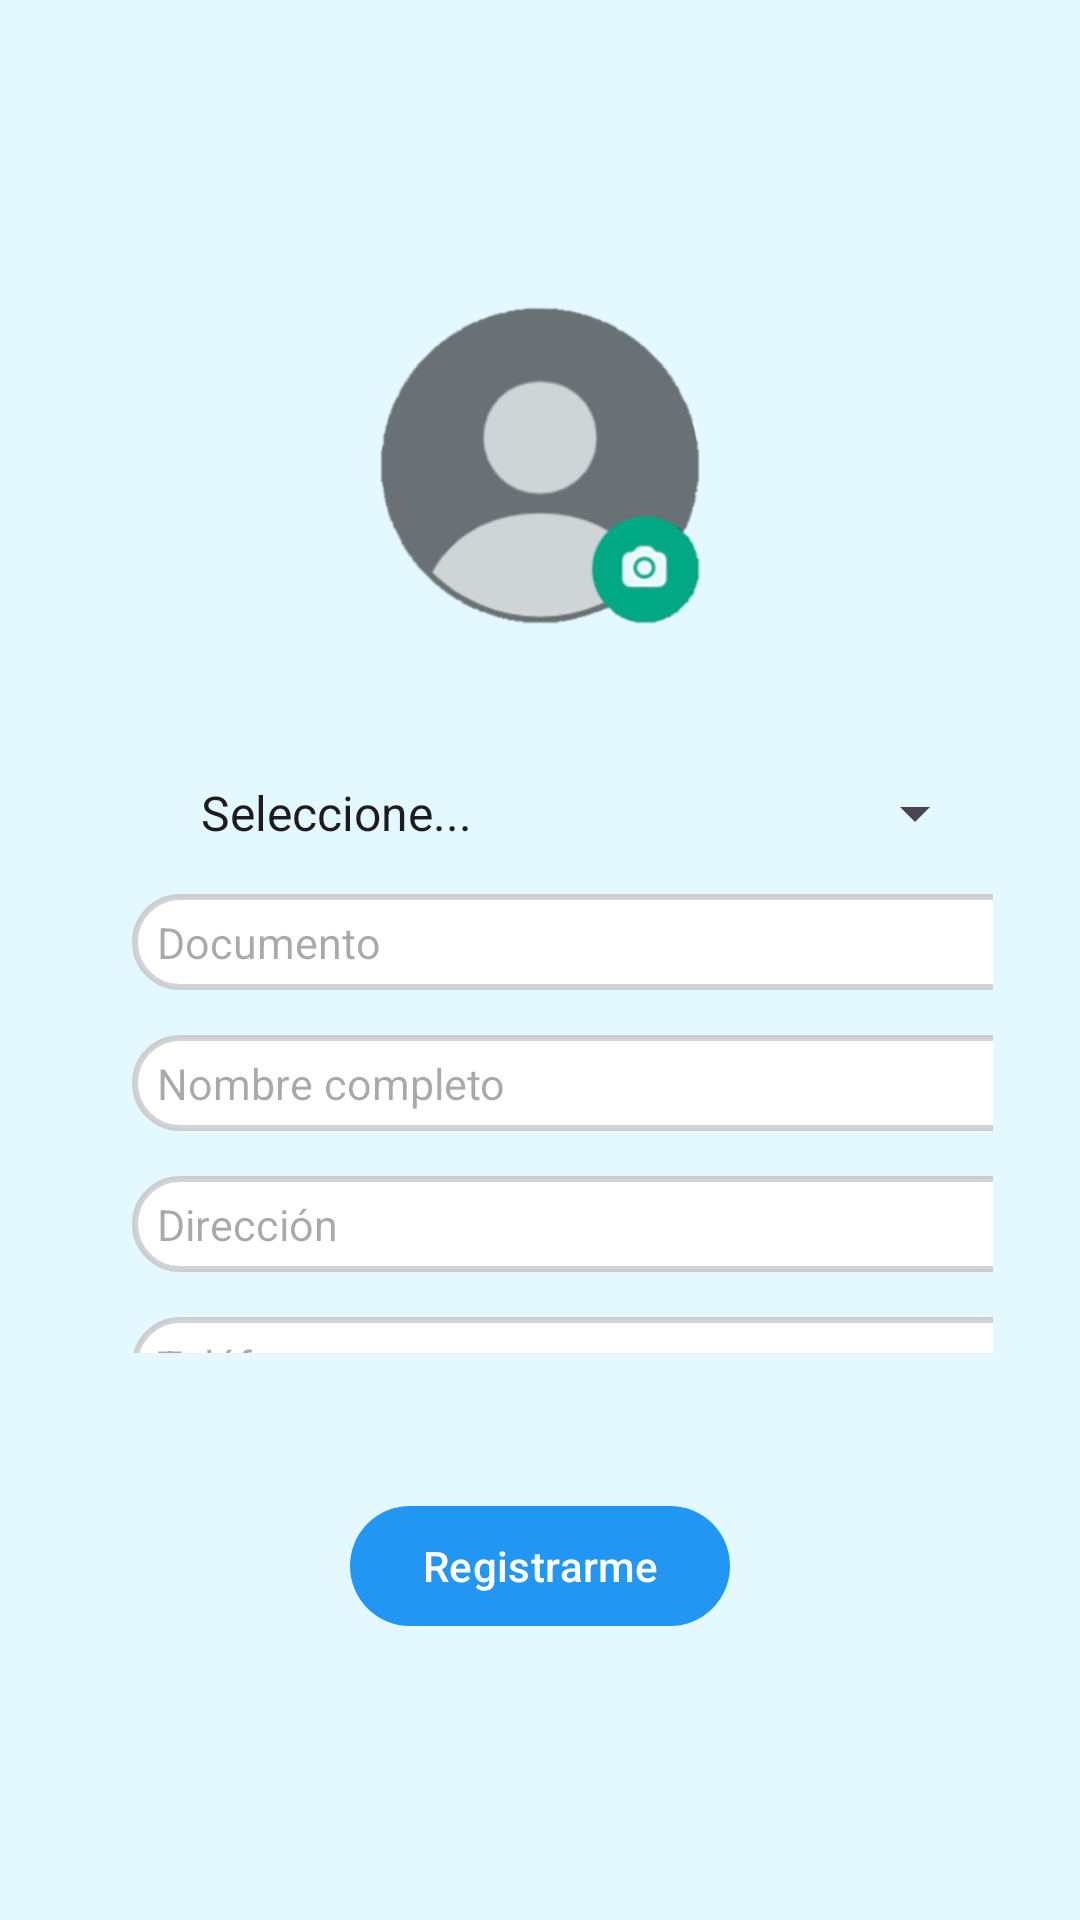

Named icons in this screenshot (1080w x 1920h) and their bounding boxes, rect(x1, y1, x2, y2):
fotoperfil: rect(380, 308, 700, 624)
